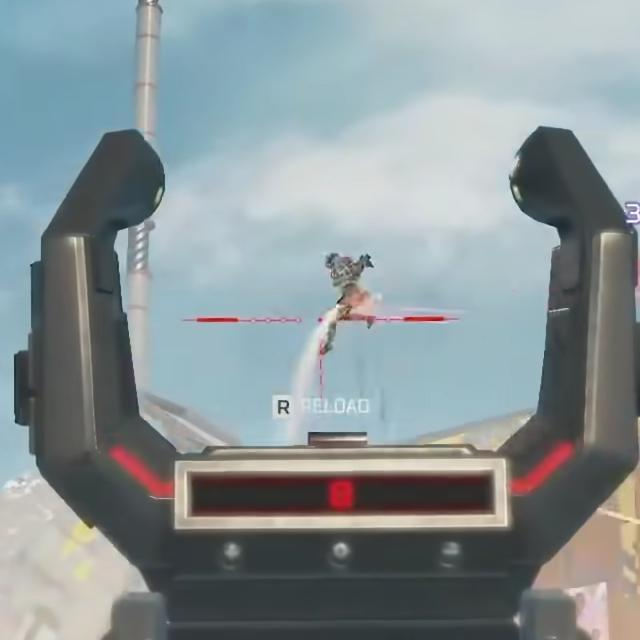avatar: (318, 249, 377, 355)
